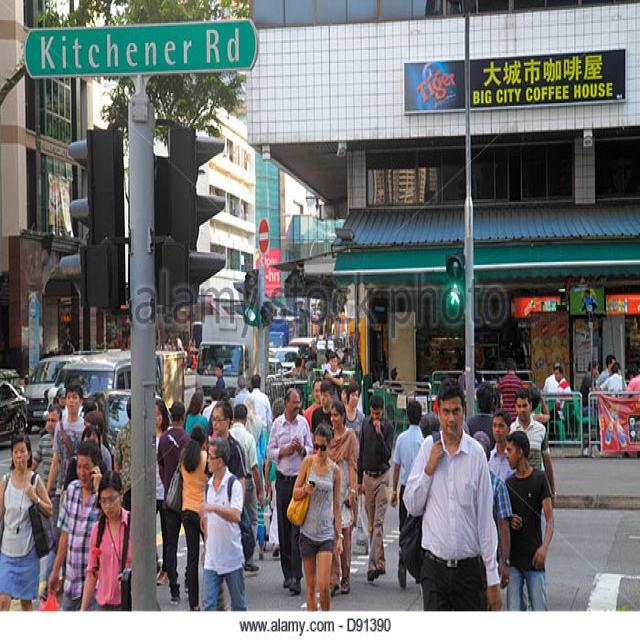body: (399, 372, 504, 639), (285, 419, 346, 613), (0, 428, 56, 639), (196, 434, 257, 613), (263, 384, 314, 598), (46, 438, 106, 613), (163, 420, 216, 616), (502, 427, 556, 612), (45, 382, 88, 600), (155, 400, 195, 607), (262, 321, 359, 402), (78, 470, 132, 612), (388, 397, 426, 592), (30, 401, 67, 600), (471, 427, 516, 590), (356, 392, 394, 584), (324, 398, 360, 600), (227, 401, 265, 575), (508, 387, 559, 511), (202, 398, 250, 511), (20, 359, 118, 414), (36, 313, 133, 358), (59, 422, 108, 508), (154, 394, 175, 588), (153, 329, 242, 374), (591, 348, 640, 427), (263, 396, 286, 558), (248, 372, 274, 497), (112, 394, 134, 514), (185, 374, 247, 414), (486, 408, 517, 483), (465, 378, 496, 452), (339, 381, 367, 461), (577, 358, 602, 447), (243, 392, 268, 480), (82, 410, 113, 480), (498, 356, 526, 426), (418, 331, 468, 366), (389, 365, 419, 417), (310, 378, 337, 435), (541, 352, 570, 405), (474, 339, 532, 365), (565, 283, 606, 318), (182, 390, 210, 438), (214, 194, 257, 224), (321, 350, 346, 400), (522, 384, 552, 424), (302, 377, 324, 431), (540, 361, 567, 394), (456, 367, 485, 392), (214, 361, 226, 389), (296, 395, 307, 418), (458, 418, 469, 440)
